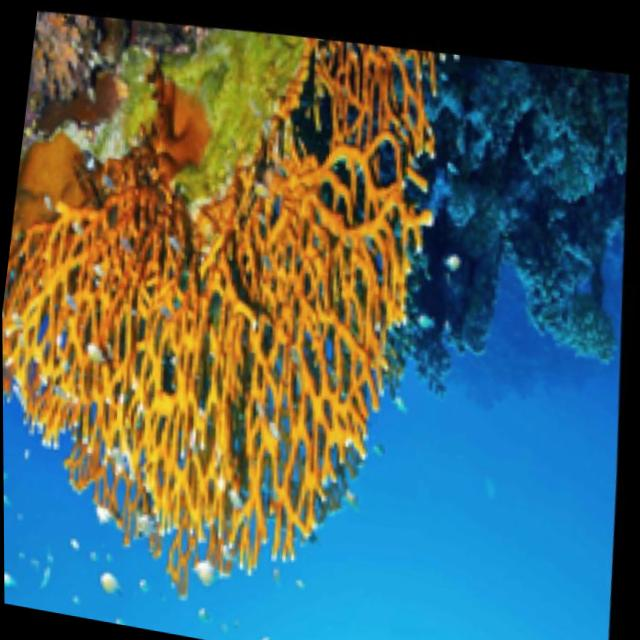Dead Coral: (417, 44, 640, 407)
